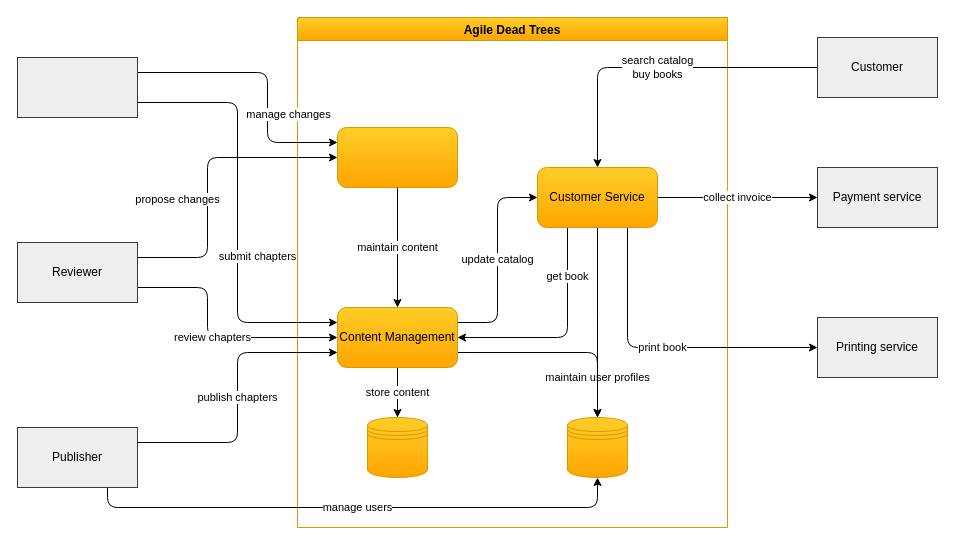
Some shapes in this 955 by 545 pixel diagram are drawn without their labels. Here are the shapes that lost their labels. From the top down, the centre of each, then its label:
At point (77, 87): "Author".
At point (397, 157): "Change Management".
At point (397, 447): "Content DB".
At point (597, 447): "User DB".
